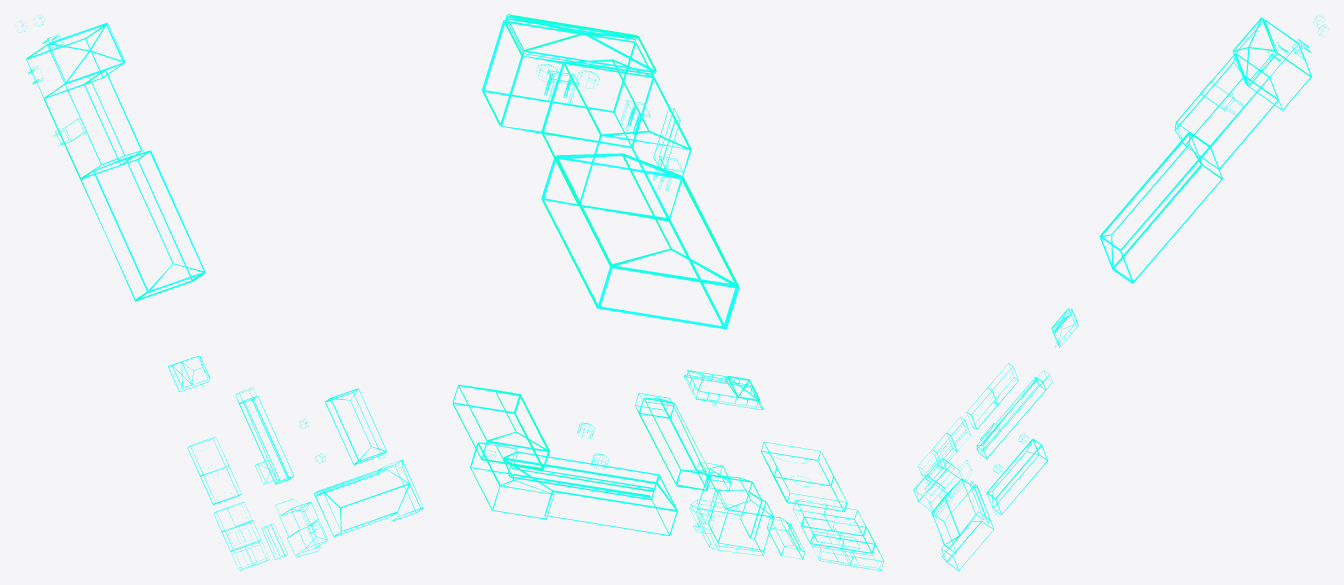
3 renders of one model, left to right at view 1: azimuth 30°, elevation 25°; view 2: azimuth 150°, elevation 25°; view 3: azimuth 270°, elevation 25°, orthographic. The views are drawn at different scales.
Parts seen in each view (by area): view 1: others, blockB; view 2: others, blockB; view 3: others, blockB.
Boxes of the visible parts, x1,y1,x2,y2 form: others: (17,14,423,570); blockB: (325,388,386,464); others: (470,14,884,570); blockB: (452,384,550,469); others: (913,14,1329,570); blockB: (986,438,1047,514).
Bounding box in the file's own units: 4.79 × 8.2 × 6.97.
